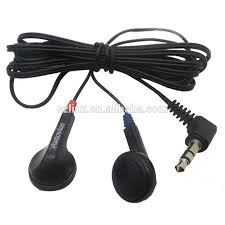earphone: (1, 22, 219, 218)
